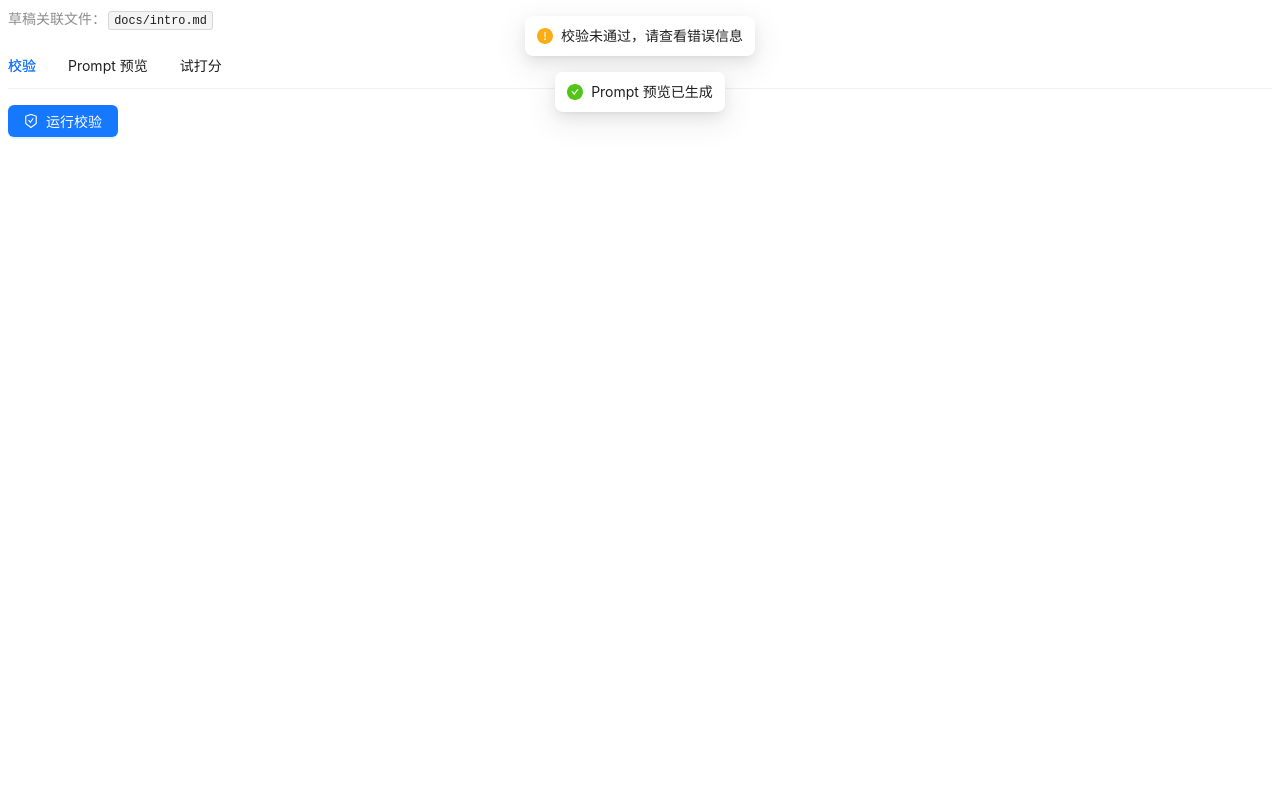
Scenario: KnowledgePreviewPanel › enables trial score button and runs scoring when required fields are filled
Click the tab "试打分" at {"x": 201, "y": 66}, box 180,55 -> 222,77
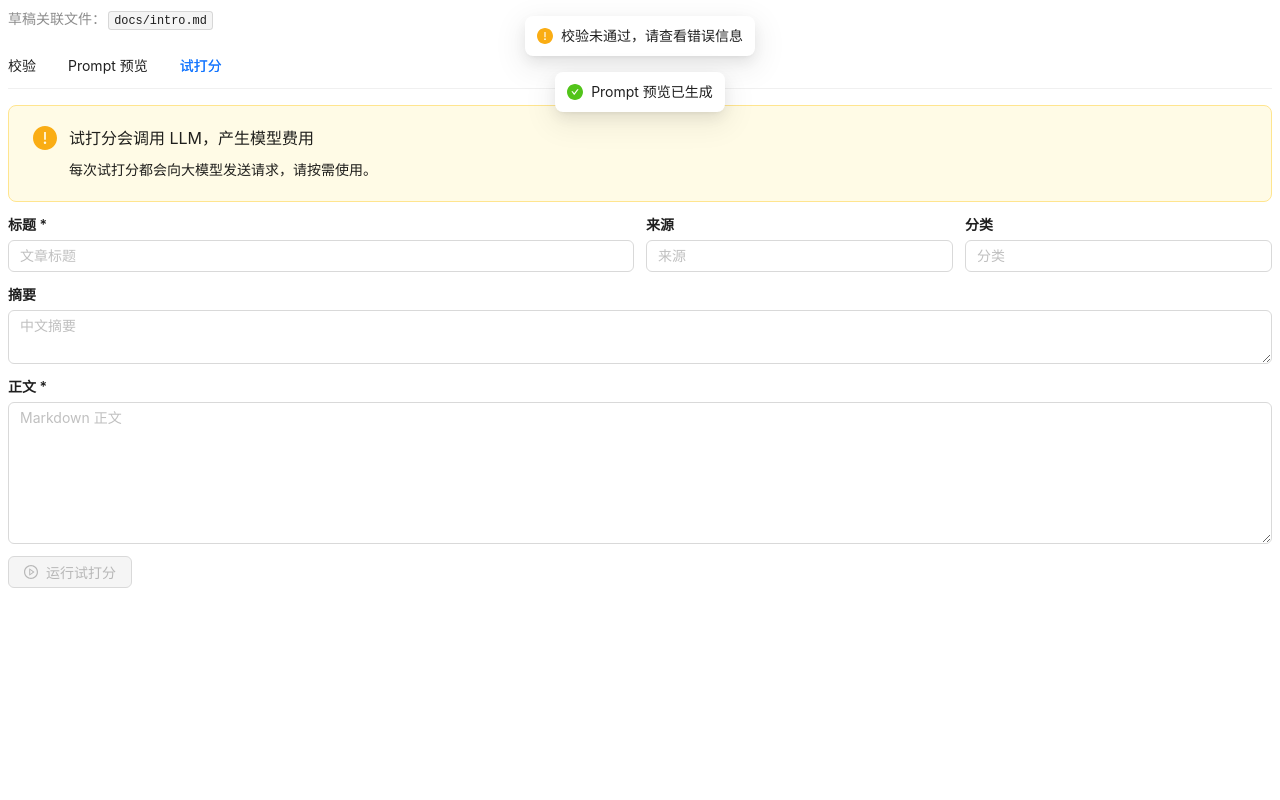
Type "测试标题" into the field labelled "文章标题" at {"x": 321, "y": 256}, box 8,240 -> 634,272
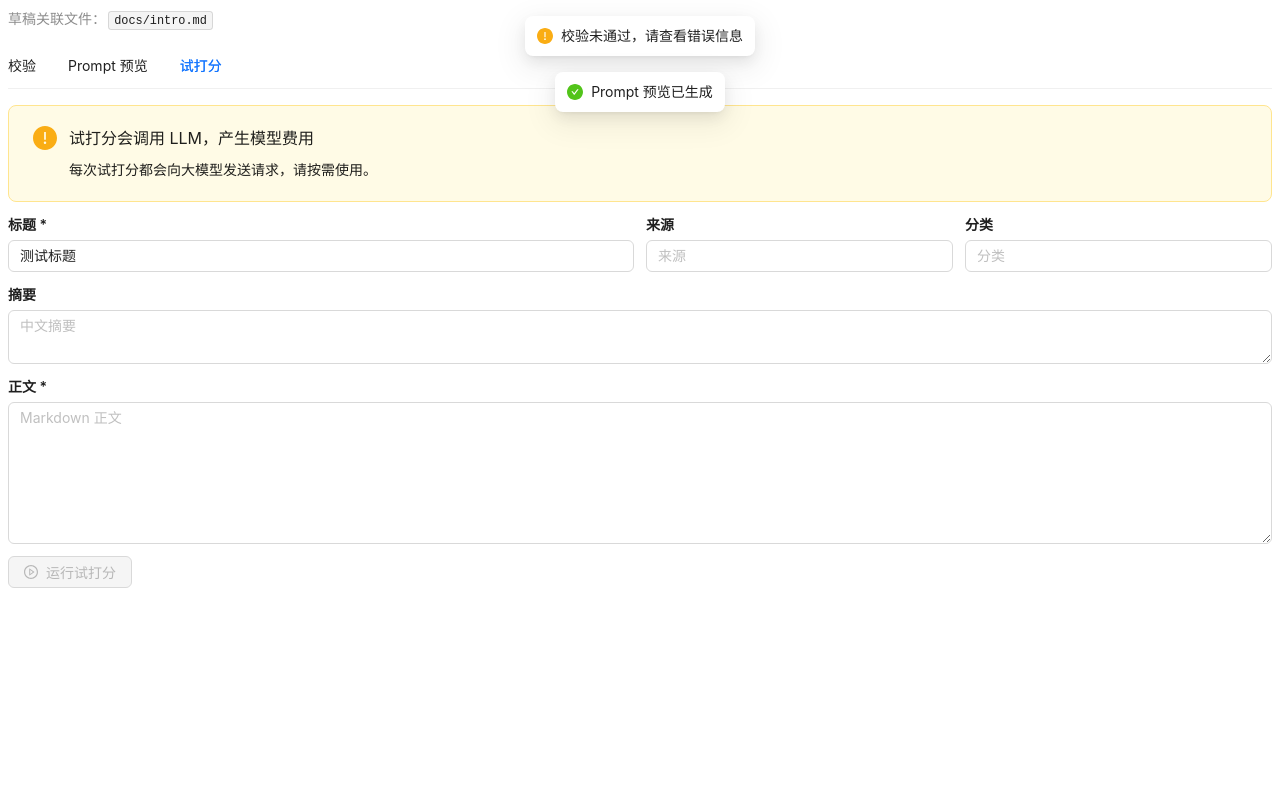
Type "测试正文内容" into the text box named "文章正文" at {"x": 640, "y": 473}, box 8,402 -> 1272,544
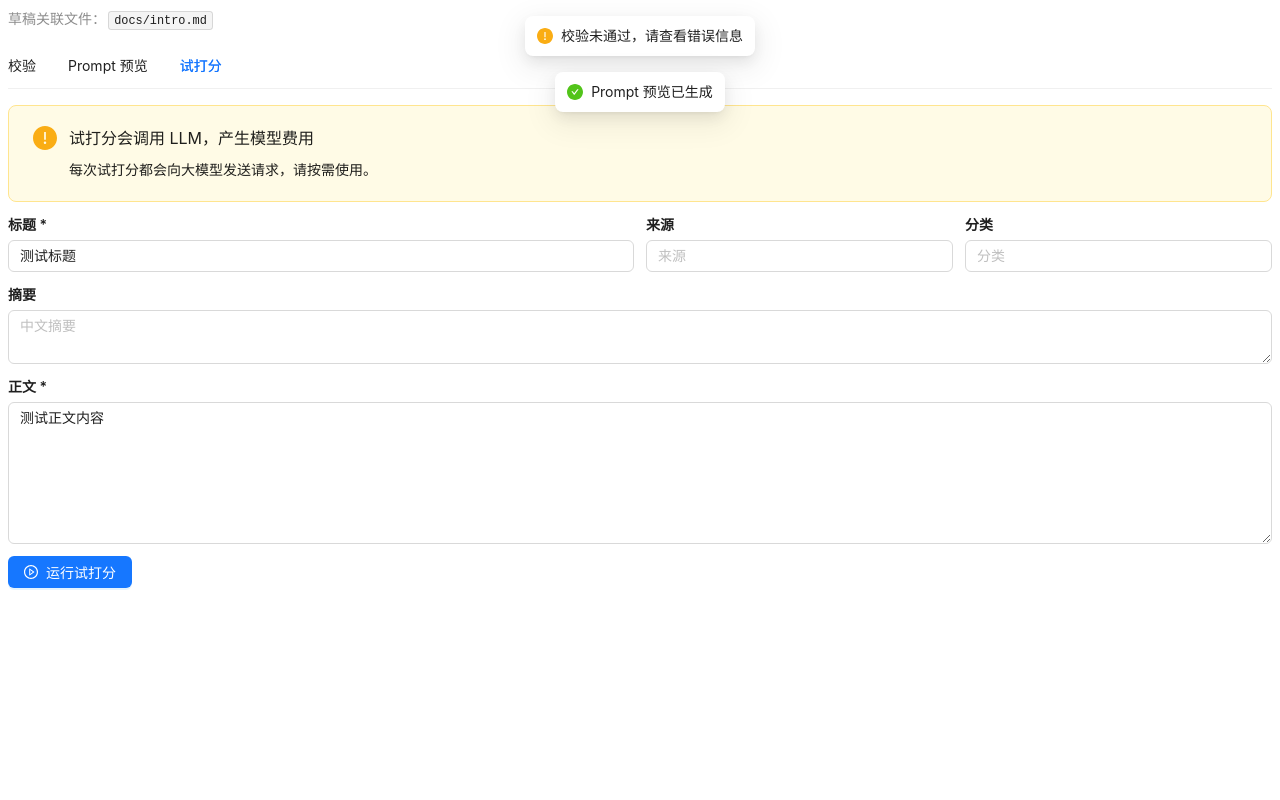
Now the button "运行试打分" is enabled
Click the button "运行试打分" at {"x": 70, "y": 572}, box 8,556 -> 132,588
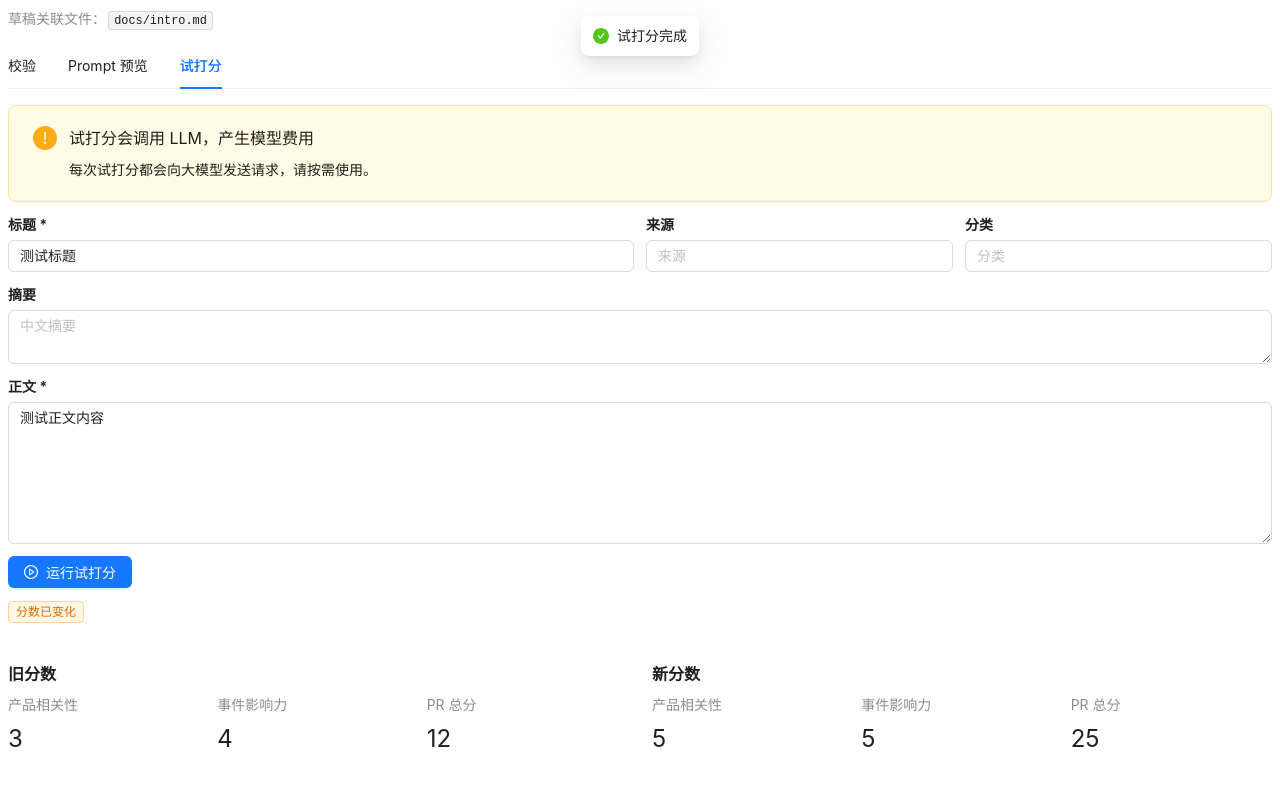
Now the text "分数已变化" is shown, box 8,601 -> 84,623
Now the text "产品相关性" is shown 2 times, box 8,696 -> 78,713; 652,696 -> 722,713
Now the text "事件影响力" is shown 2 times, box 217,696 -> 287,713; 861,696 -> 931,713
